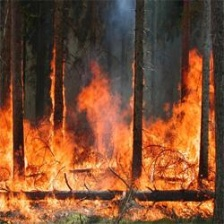fire: (2, 62, 221, 223)
